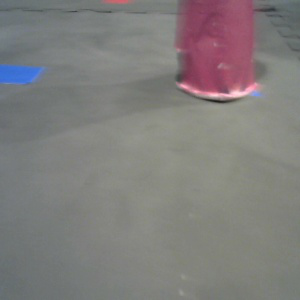Right: (175, 4, 262, 101)
